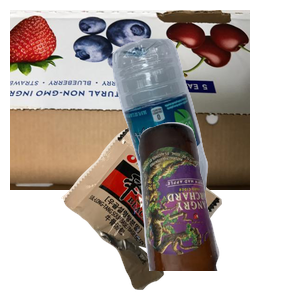cardboard: (10, 10, 250, 190)
glass: (136, 120, 300, 300)
plastic: (110, 36, 300, 216)
trash: (59, 124, 273, 300)
